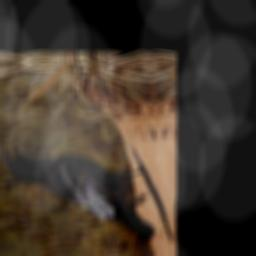Crow: (2, 134, 158, 254)
